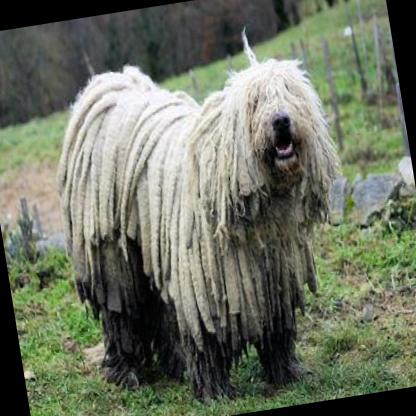komondor: (30, 18, 385, 416)
